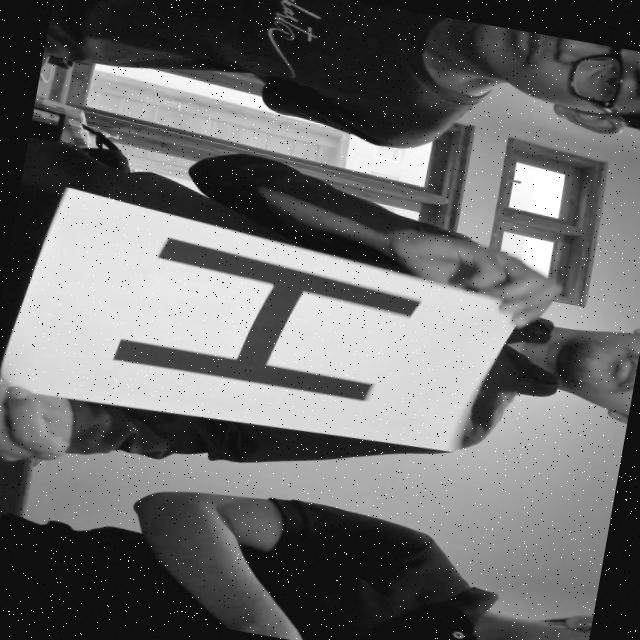h: (84, 222, 434, 432)
